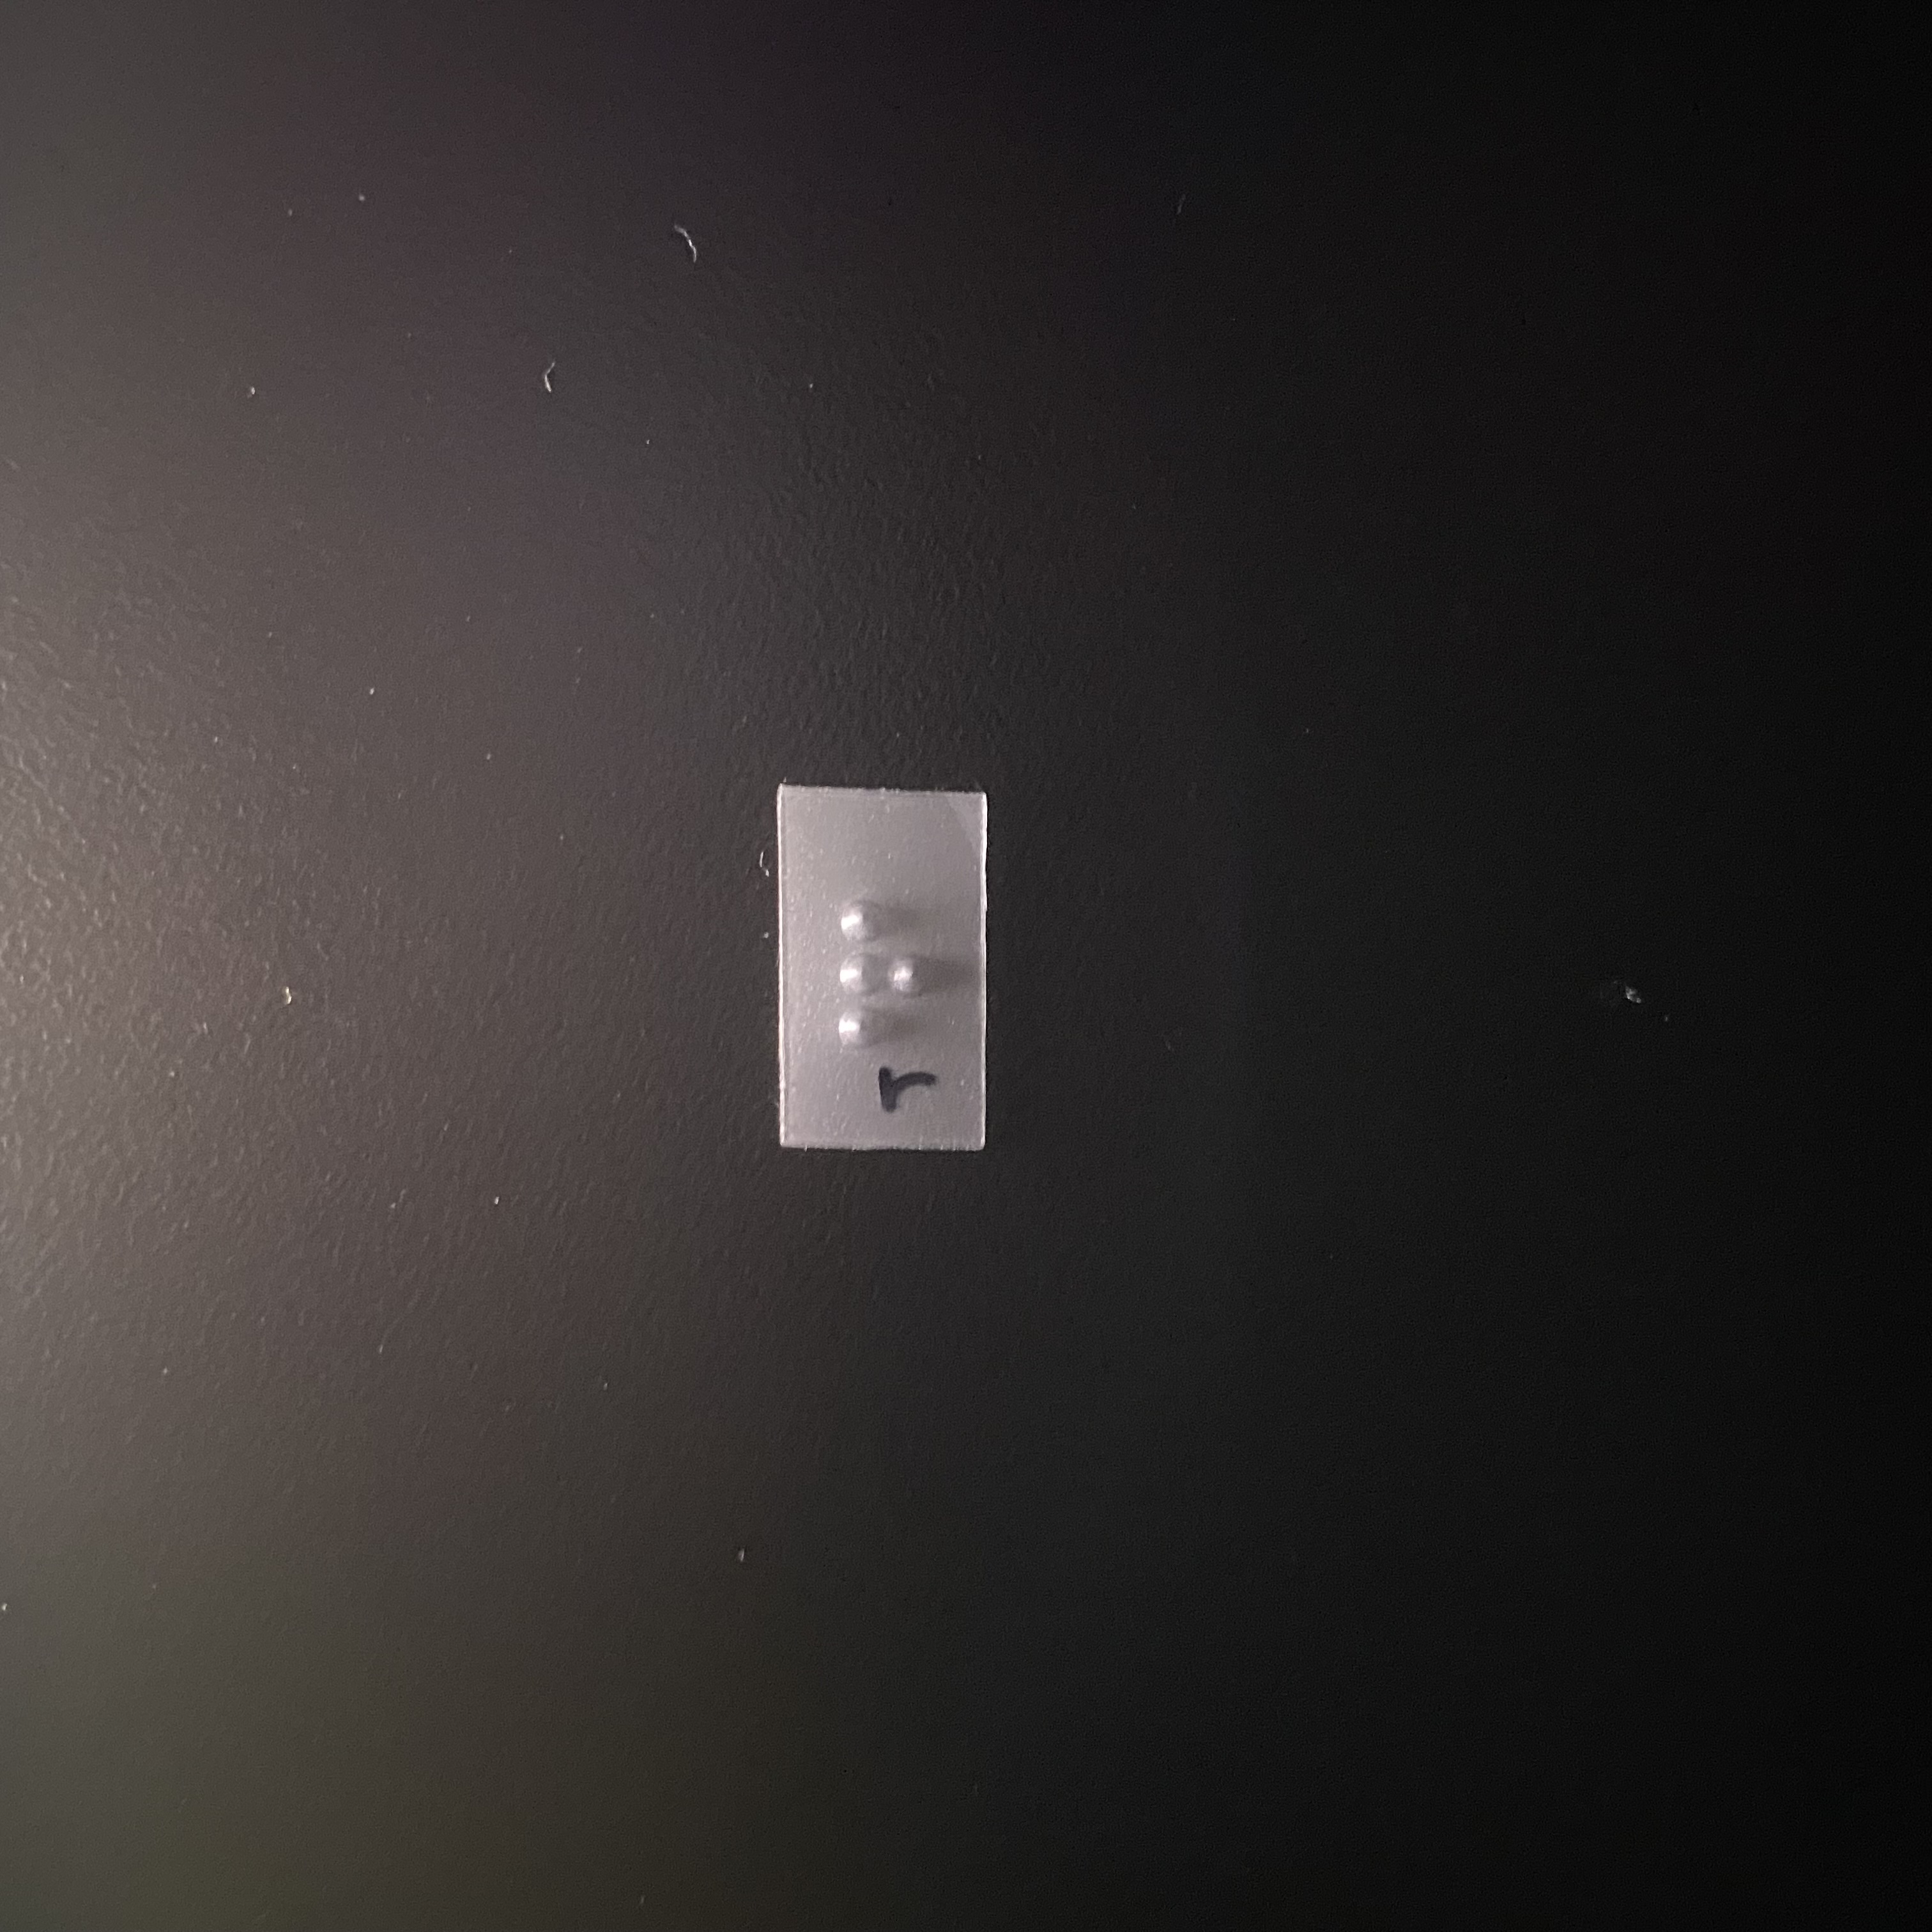r: (831, 885, 954, 1053)
